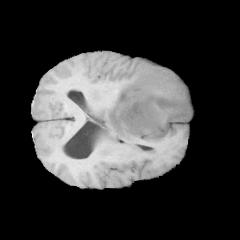glioma: (105, 62, 190, 143)
